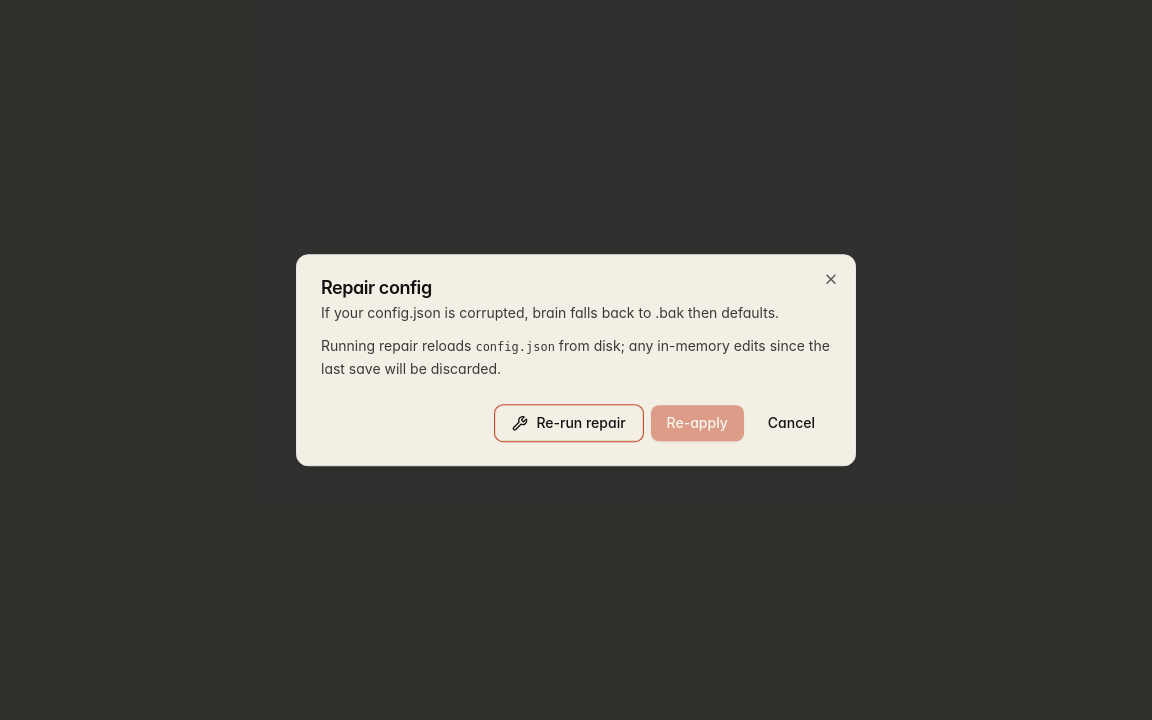
Test case: RepairConfigDialog — Re-run flow › fallback-to-bak run enables Re-apply
Expected: the dialog is shown, [296,254,856,466]
Click the button "Re-run repair": (569, 423) [495,405,643,441]
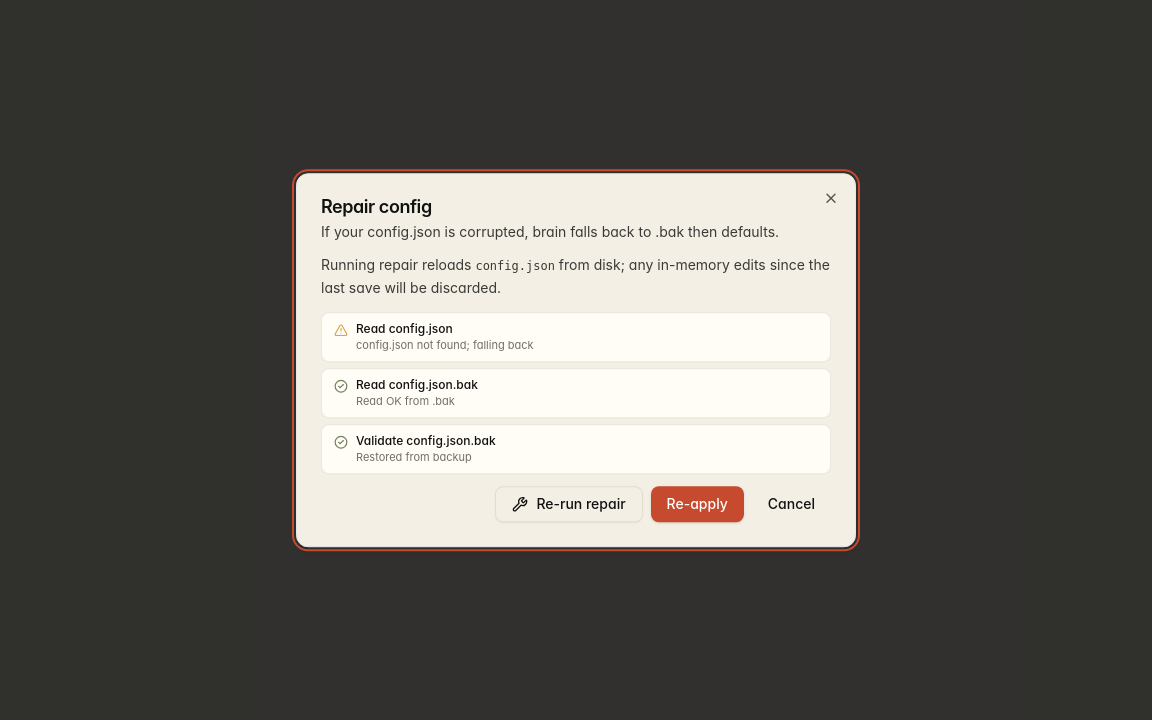
Expected: the text "Read config.json" is shown, [356,321,453,336]
Expected: the text "Read config.json.bak" is shown, [356,377,478,393]
Expected: the text "Validate config.json.bak" is shown, [356,433,496,449]
